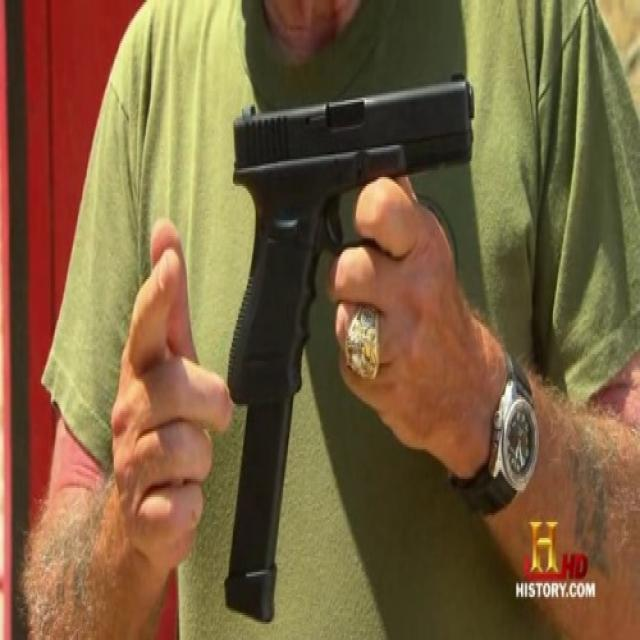weapons: (201, 44, 486, 579)
